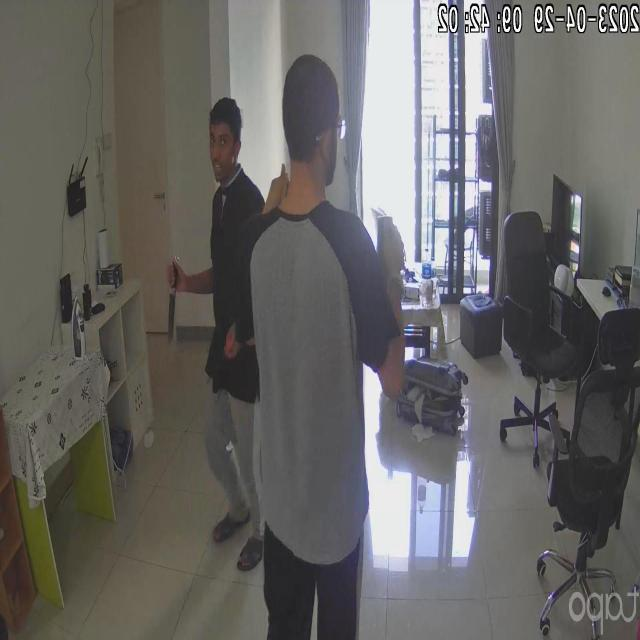Knife: (155, 254, 190, 349)
